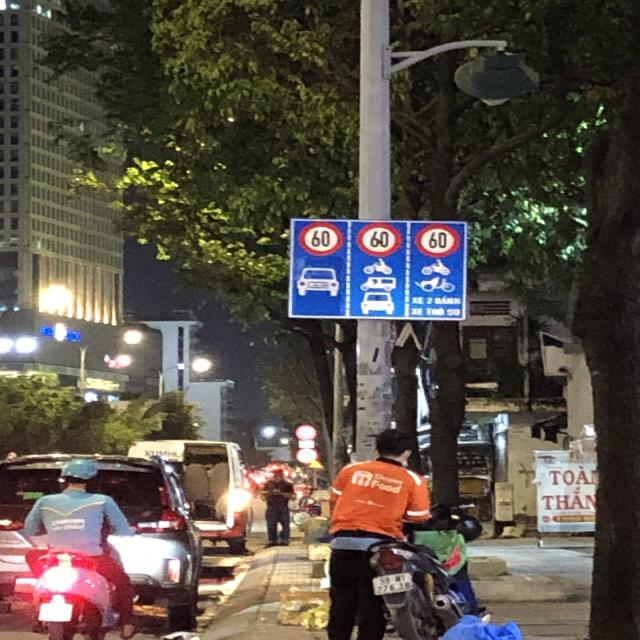Bien bao toc do toi da cho phep: (410, 221, 464, 261), (294, 217, 344, 257), (352, 219, 403, 258)
